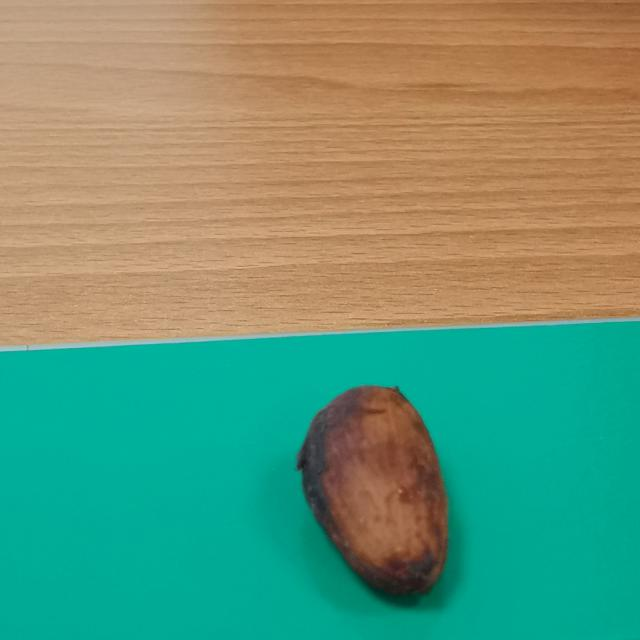Fine_cocoabeans: (221, 341, 535, 638)
